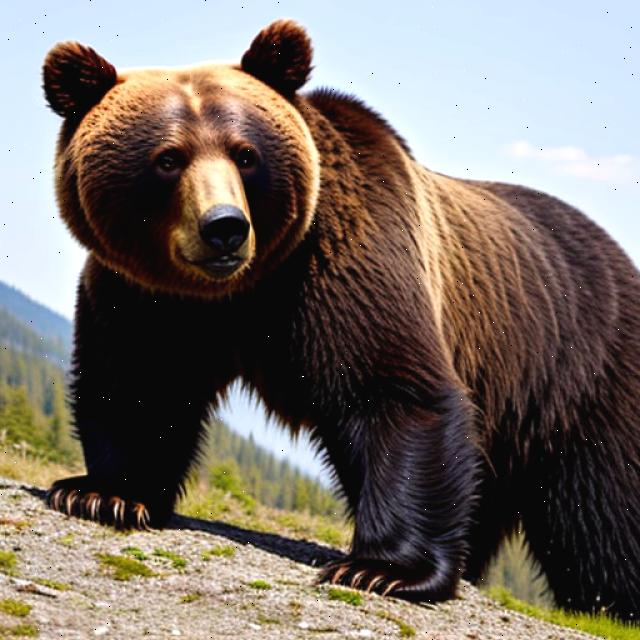bear: (9, 9, 371, 282)
